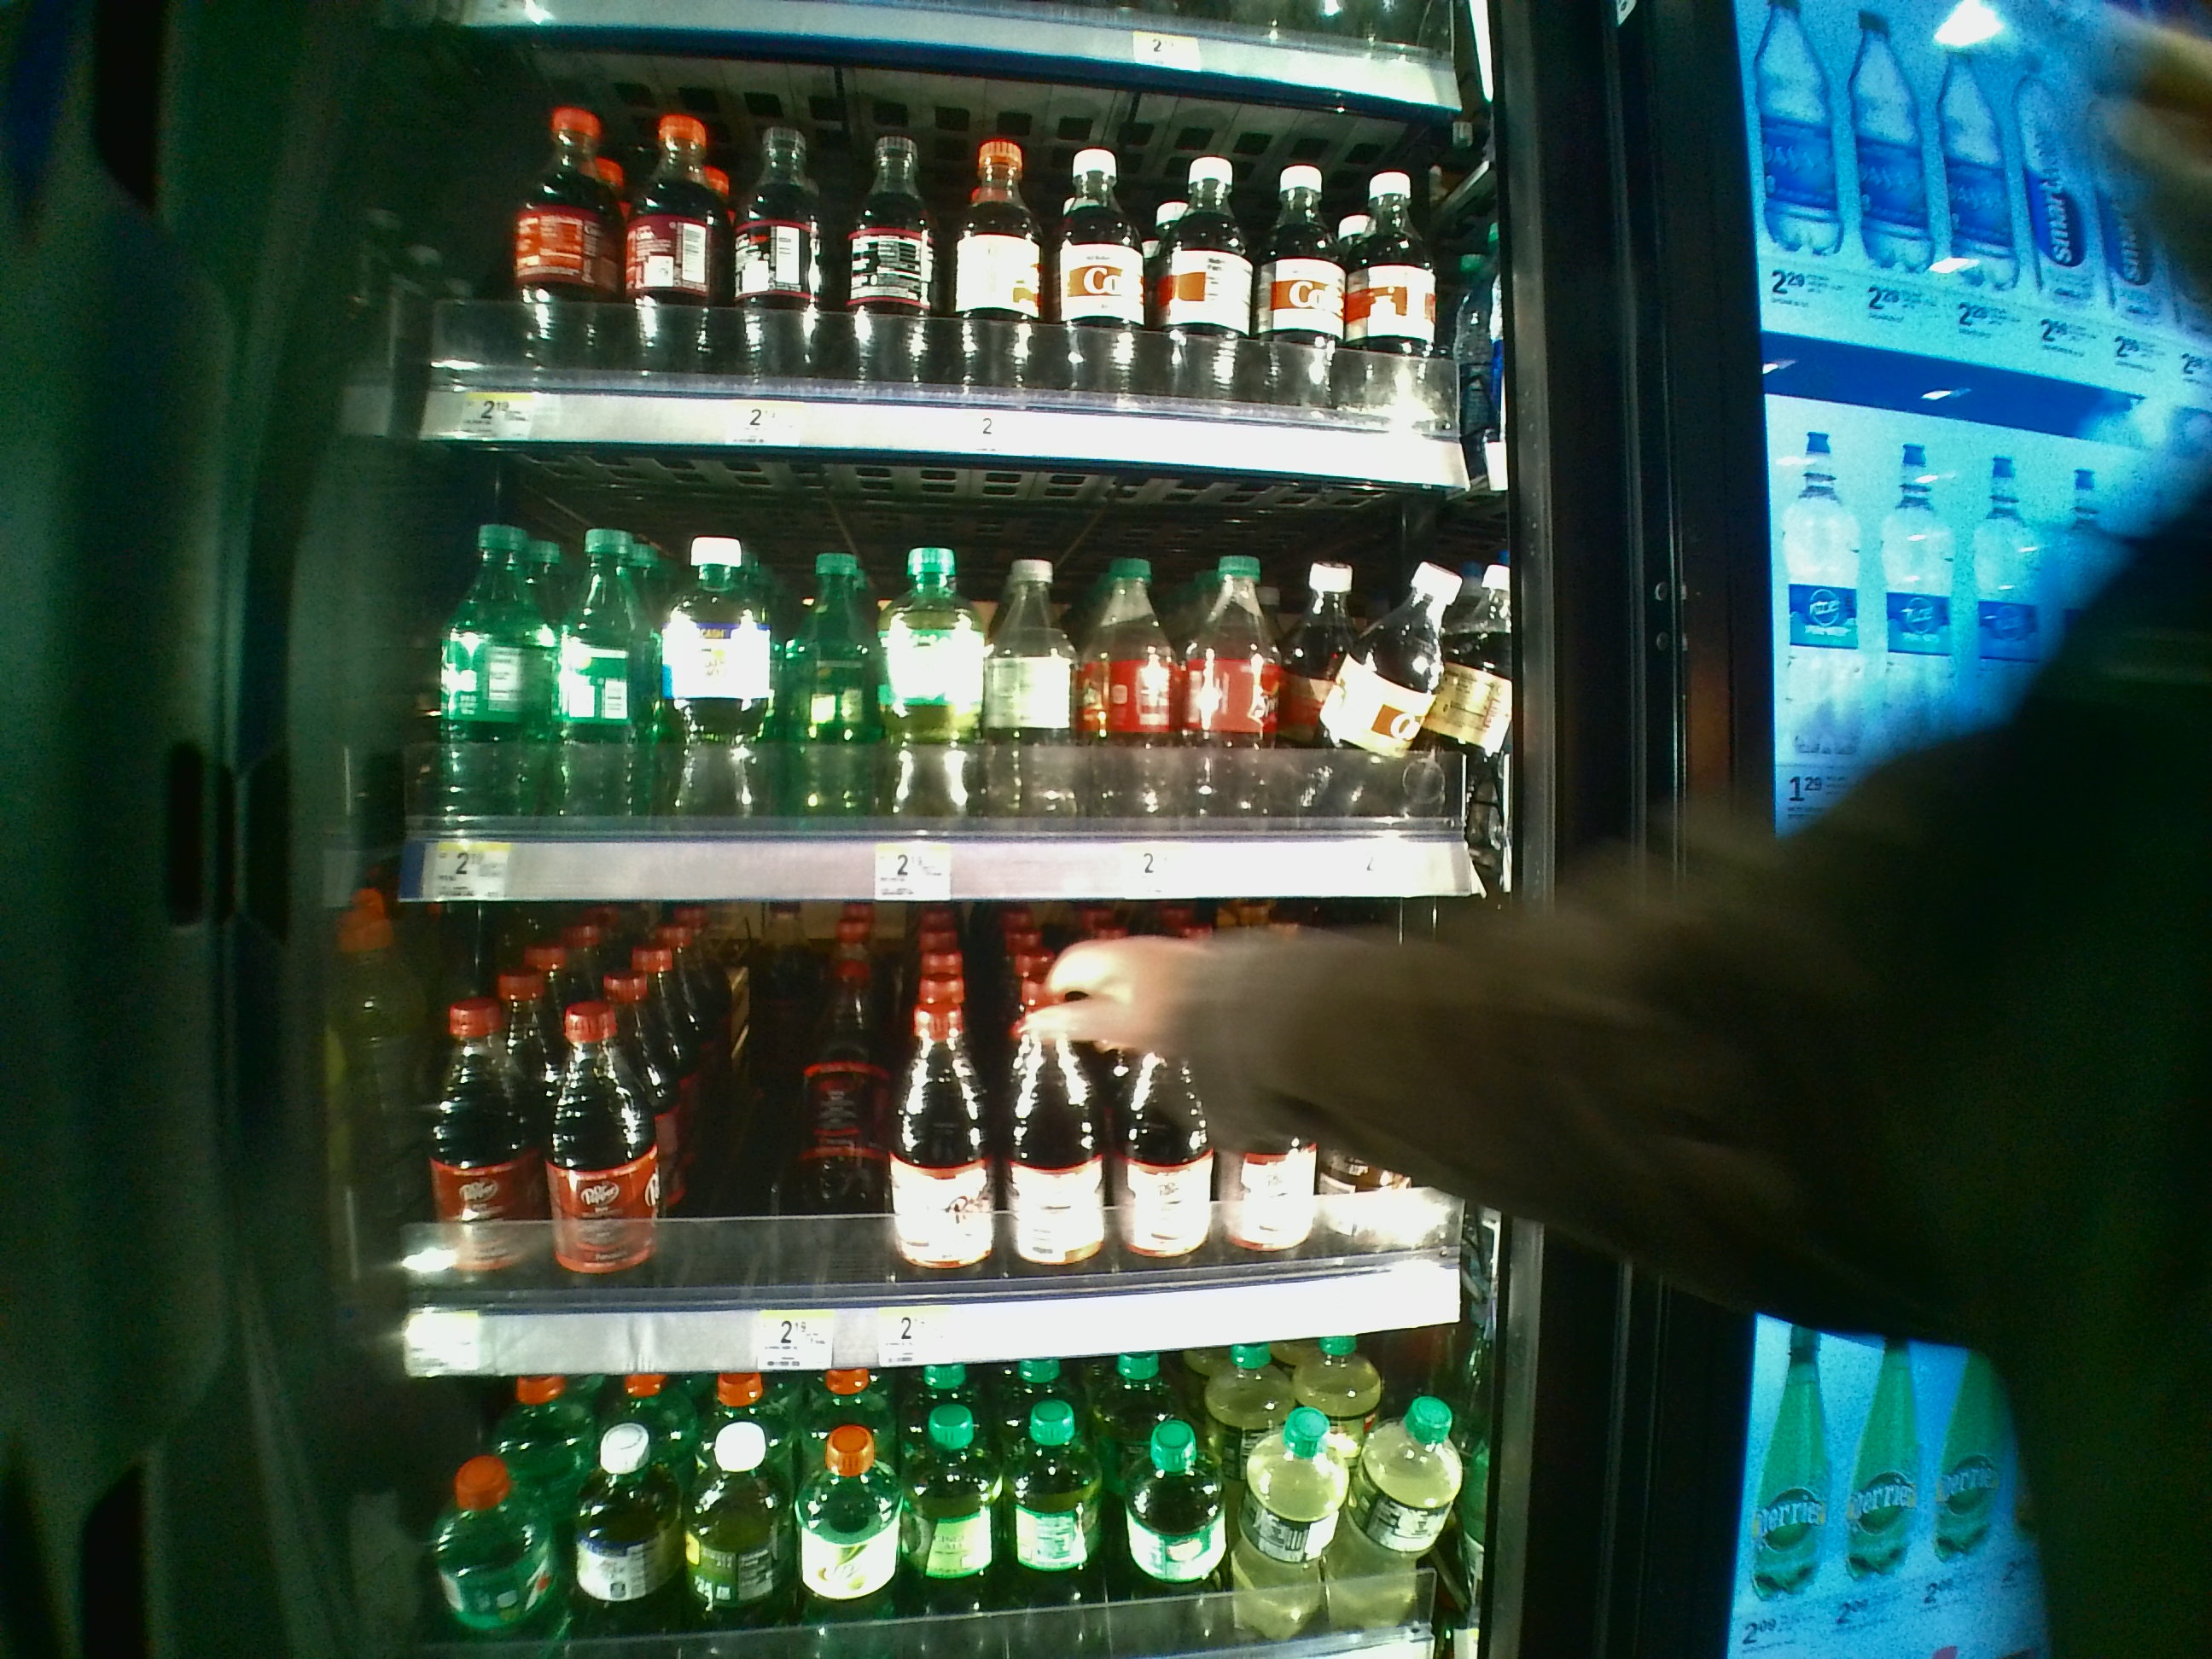shelf: (409, 37, 1501, 486), (392, 490, 1524, 913)
